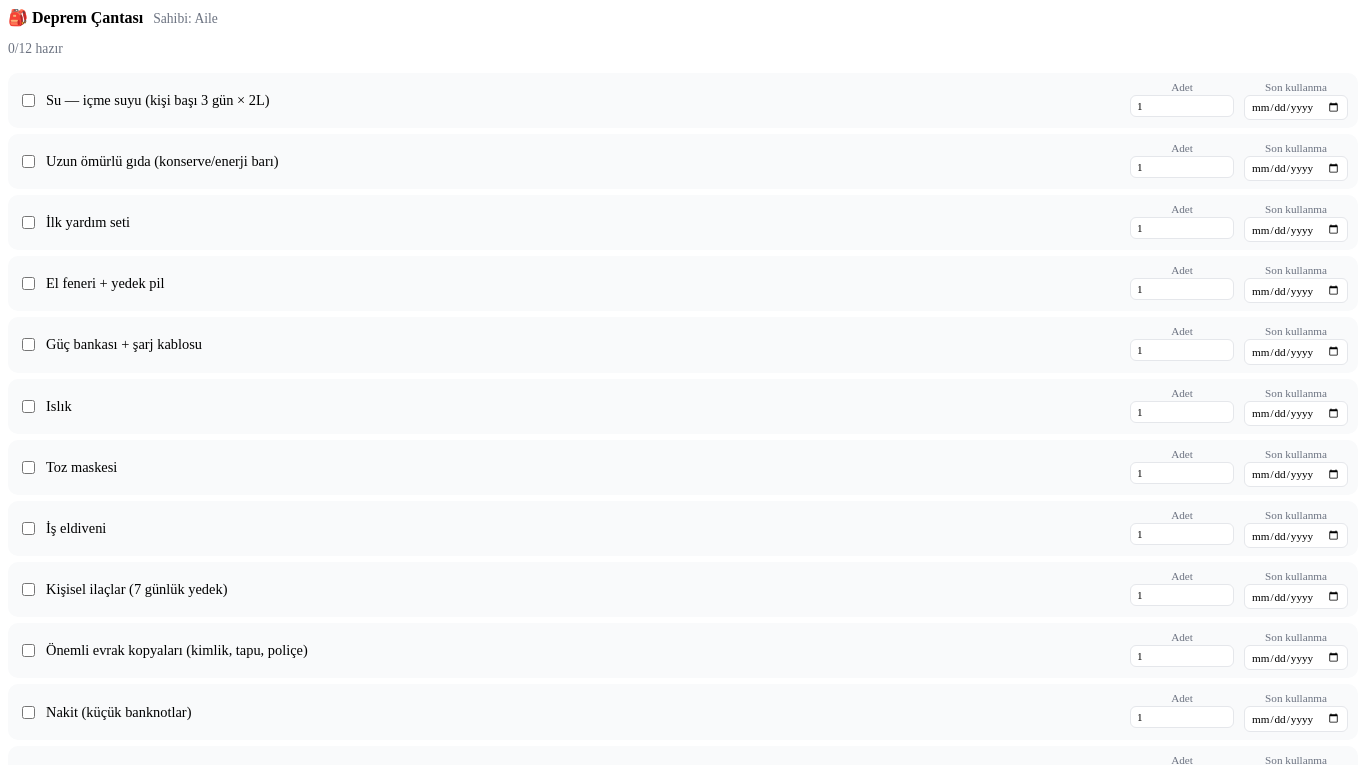
Test: CantasiEditor — çanta checklist persistence › toggling an item persists done=true to Dexie
The width and height of the screenshot is (1366, 765).
Click the checkbox labelled "Su — içme suyu (kişi başı 3 gün × 2L)". click: (28, 100)
box: x1=22 y1=94 x2=35 y2=107
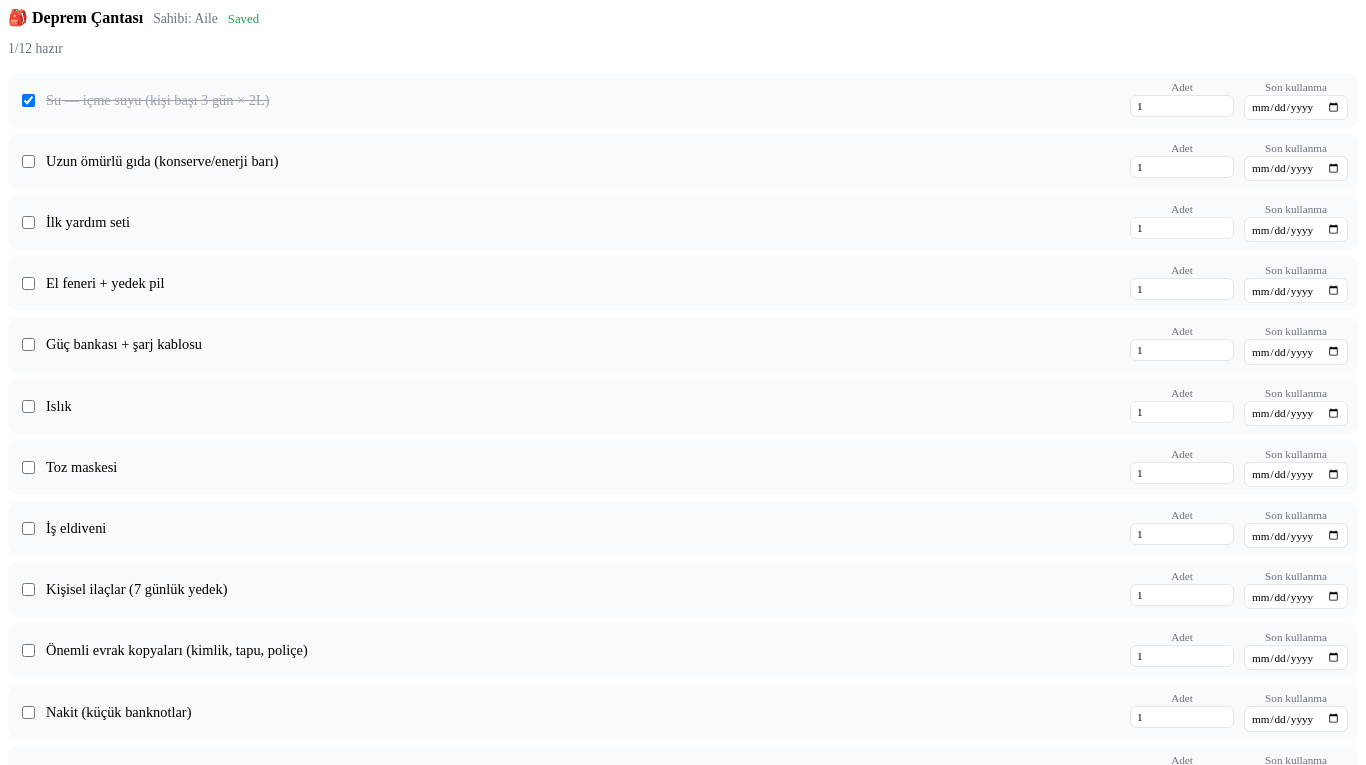
Check: the text "1/12 hazır" is shown, box x1=8 y1=41 x2=63 y2=56
